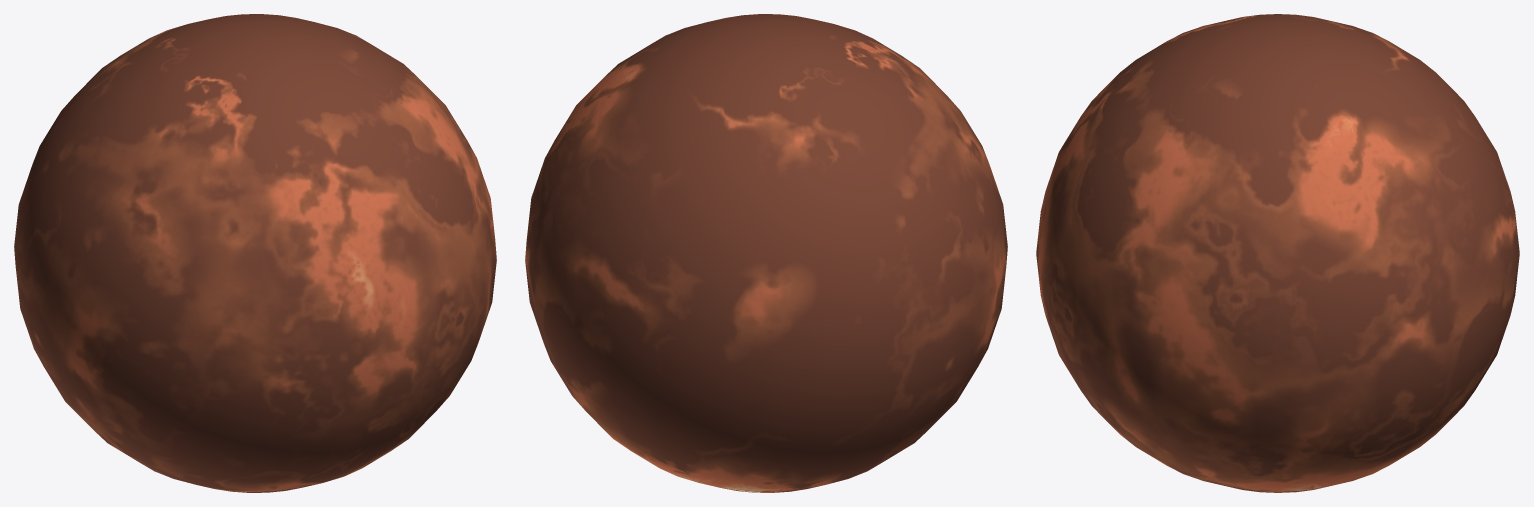
The model's file is planet-3.glb.
The picture shows the model from 3 angles, left to right: view 1: azimuth 30°, elevation 25°; view 2: azimuth 150°, elevation 25°; view 3: azimuth 270°, elevation 25°; orthographic projection.
Parts seen in each view (by area): view 1: GJ-667C-c; view 2: GJ-667C-c; view 3: GJ-667C-c.
Boxes of the visible parts, bbox=[...] form: GJ-667C-c: bbox=[14, 14, 496, 492]; GJ-667C-c: bbox=[525, 14, 1007, 492]; GJ-667C-c: bbox=[1036, 14, 1519, 492].
Size of the model in its own units: 1.01 by 1 by 1.01.
1 material, 1 textured.
